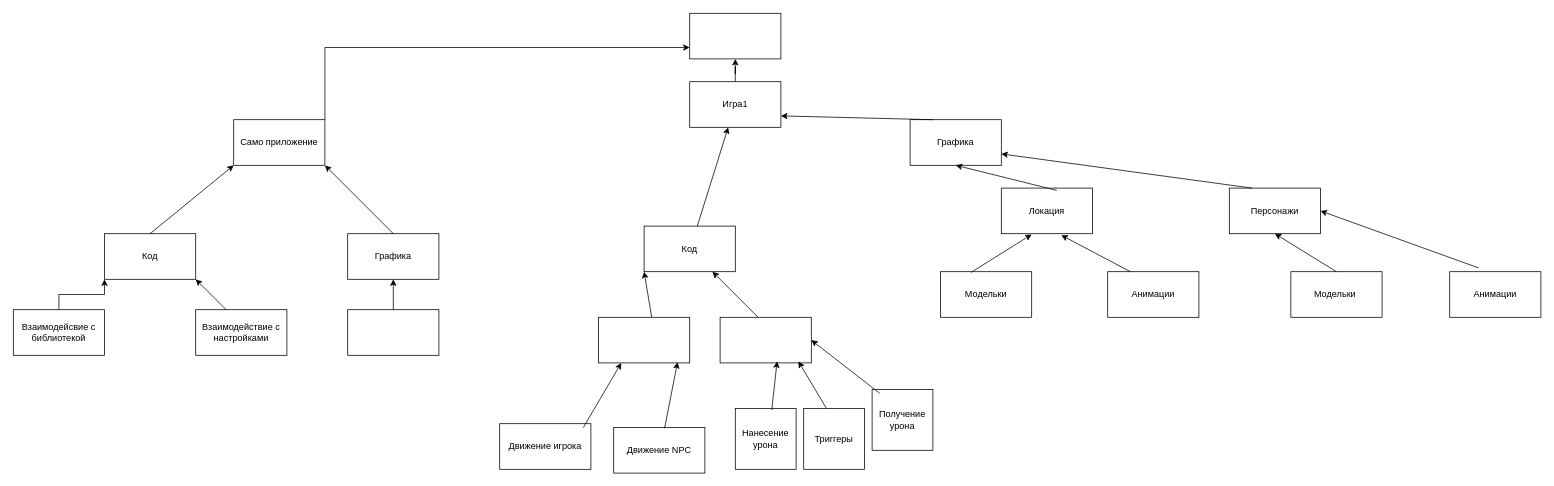
Image size: 1554x486. Some labels were removed from this diagram. Here are the shapes that lost their labels. From the top down, the box of each, then its label:
(689, 13, 781, 59): Итоговое приложение с играми
(347, 309, 439, 355): Дизайн лаунчера
(598, 317, 690, 363): Движение
(719, 317, 811, 363): Взаимодесйтствие
